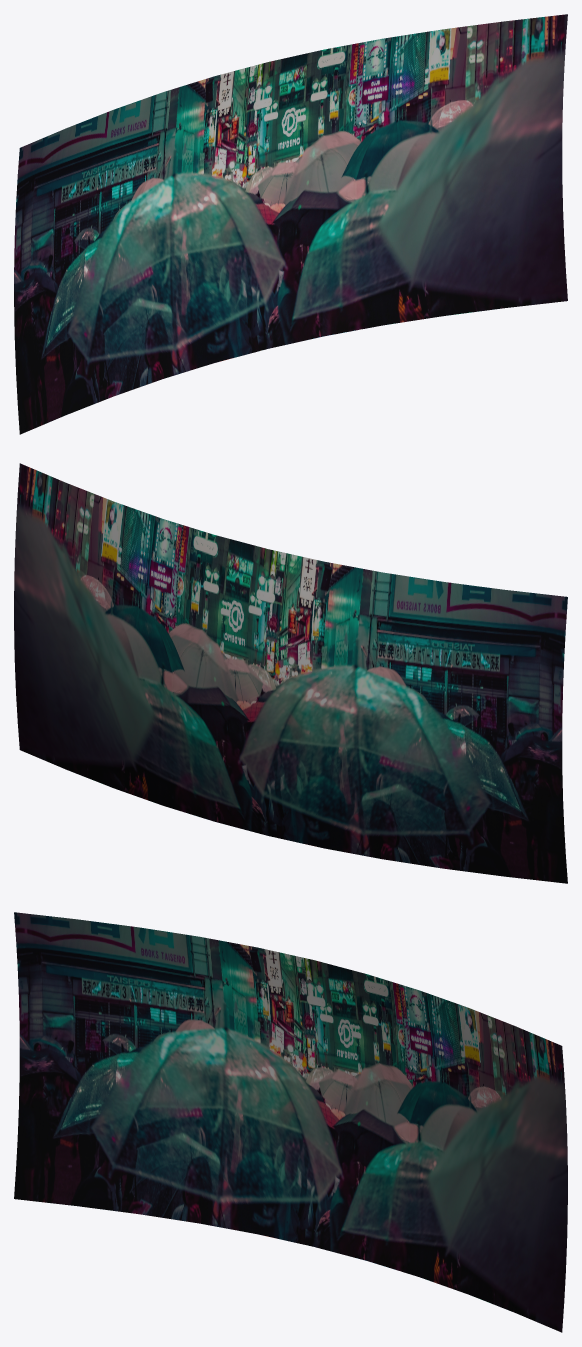
Rendered from C_Calle_Neon.fbx.
3 views of the same model, one above another, from view 1: azimuth 30°, elevation 25°; view 2: azimuth 150°, elevation 25°; view 3: azimuth 330°, elevation 25° (orthographic).
Parts seen in each view (by area): view 1: pPlane1; view 2: pPlane1; view 3: pPlane1.
Part boxes in pixels (bbox=[...]): pPlane1: bbox=[14, 14, 567, 434]; pPlane1: bbox=[14, 463, 567, 883]; pPlane1: bbox=[14, 912, 567, 1332].
Size of the model in its own units: 400 by 200 by 42.49.
Materials: 1 (1 with a texture image).
